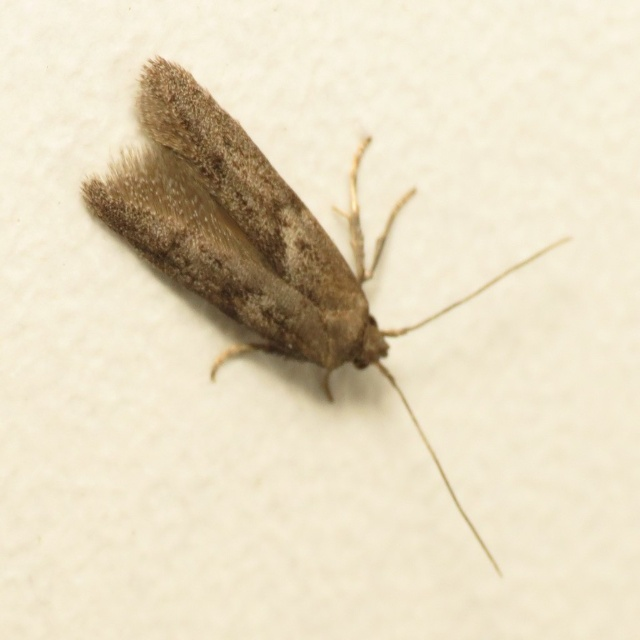Moths and butterflies: (76, 48, 576, 580)
